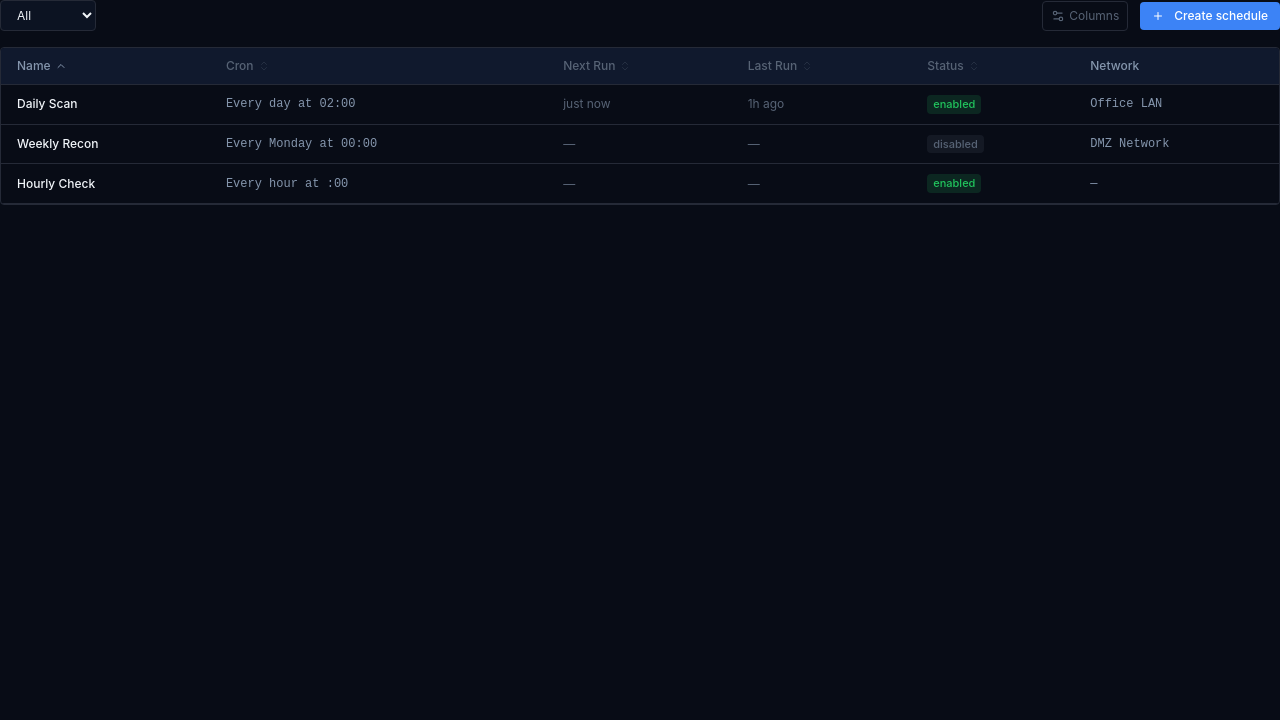
Test: SchedulesPage — detail panel › opens the detail panel when a row is clicked
Click the text "Daily Scan" at [640, 104], box [1,84,1279,124]
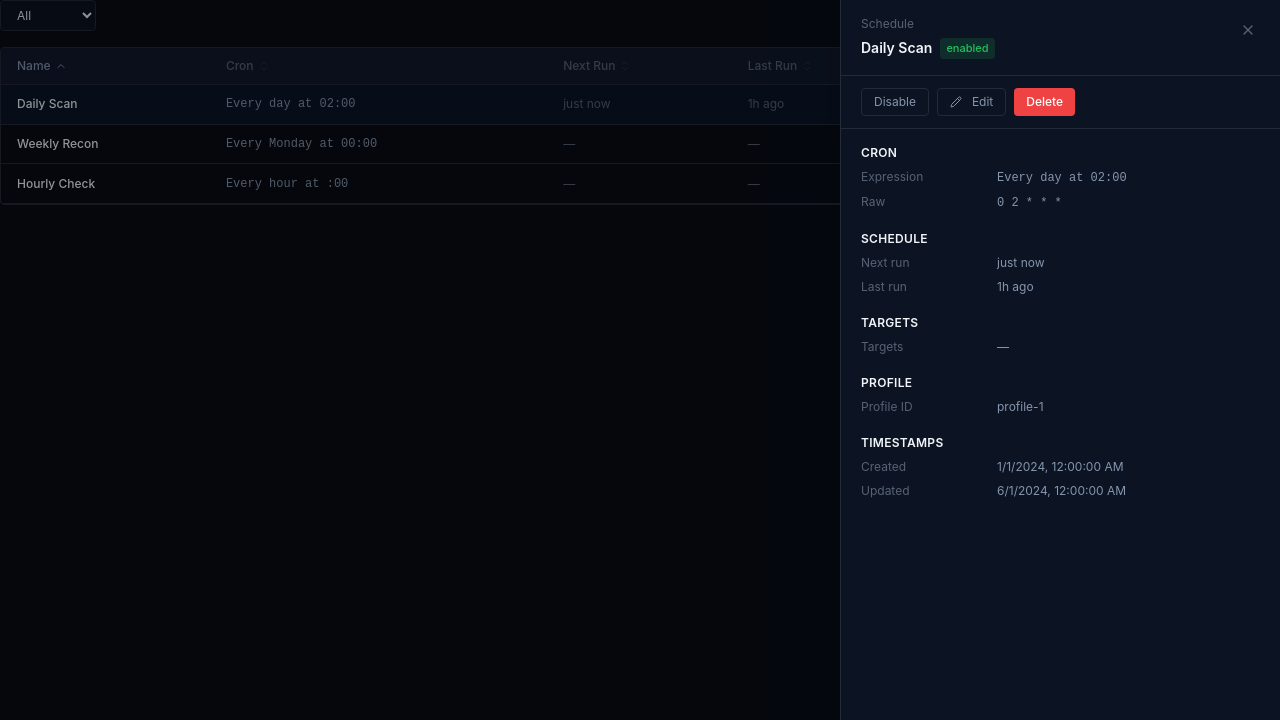
Expected: the dialog named "schedule details" is shown, [840,0,1279,719]
